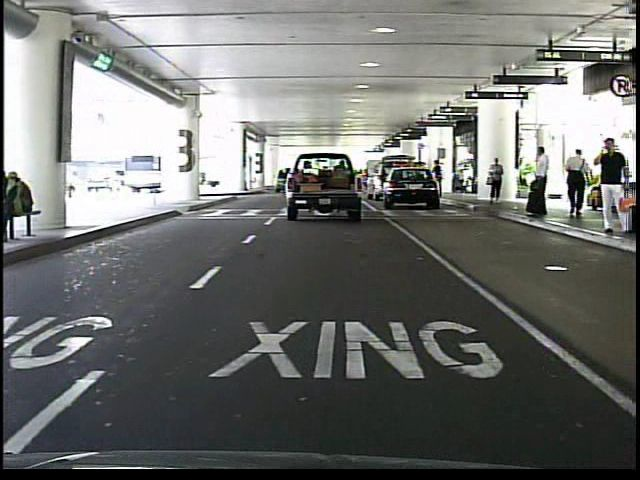person: (593, 137, 633, 241), (526, 143, 553, 222), (563, 144, 591, 220), (485, 156, 508, 208), (432, 159, 444, 188)
